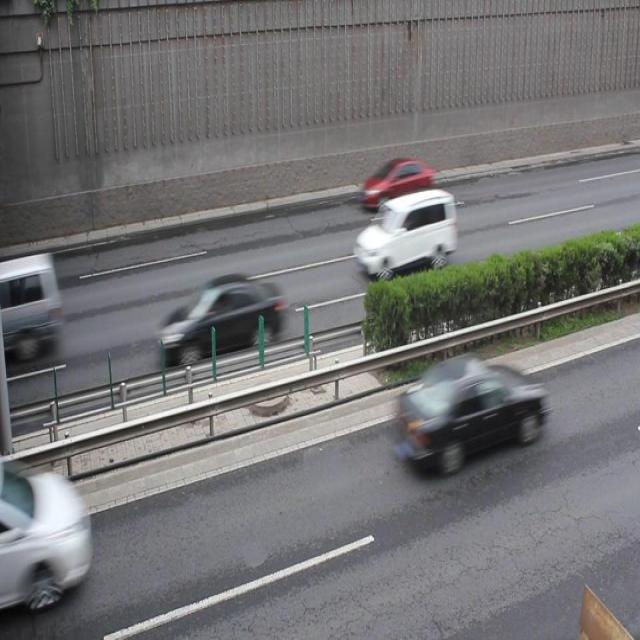car: (395, 350, 543, 474), (1, 464, 91, 617), (154, 272, 284, 366), (352, 190, 455, 278), (359, 156, 434, 214)
